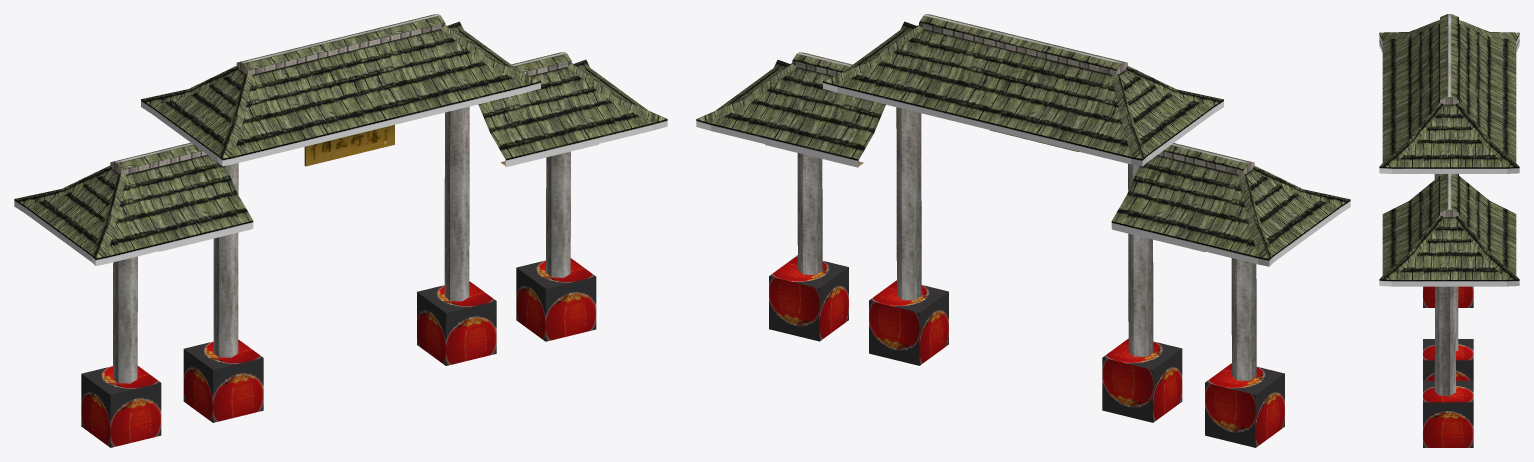
The model's file is chin_misc_gate.dae.
The picture shows the model from 3 angles, left to right: view 1: azimuth 30°, elevation 25°; view 2: azimuth 150°, elevation 25°; view 3: azimuth 270°, elevation 25°; orthographic projection. The views are drawn at different scales.
Visible parts, largest first — view 1: Cube_004; view 2: Cube_004; view 3: Cube_004.
Part boxes in pixels (bbox=[...]): Cube_004: bbox=[14, 14, 667, 447]; Cube_004: bbox=[696, 14, 1350, 447]; Cube_004: bbox=[1379, 14, 1519, 447].
Bounding box in the file's own units: 31.51 × 7.76 × 17.8.
